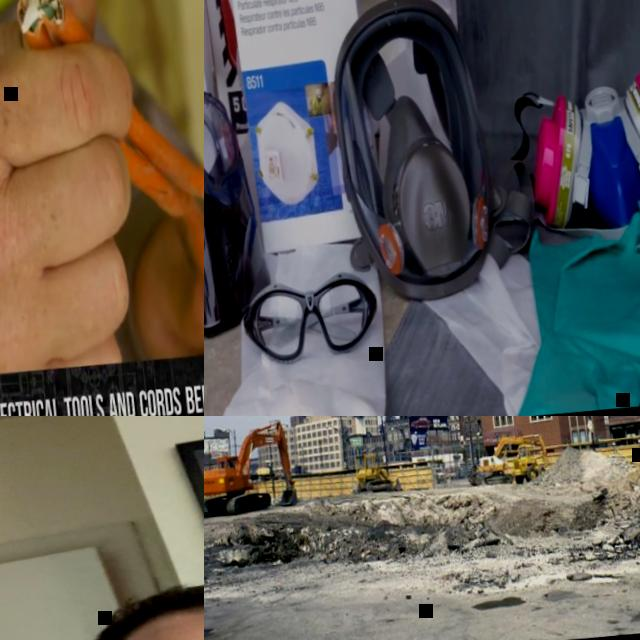Mask: (318, 0, 505, 305), (478, 33, 640, 260), (204, 172, 279, 341)
NO-Hardhat: (65, 570, 204, 640)
Person: (0, 0, 204, 400), (0, 543, 204, 640)
vehicle: (204, 419, 300, 517), (465, 430, 553, 486), (350, 447, 403, 495), (510, 439, 547, 483)
